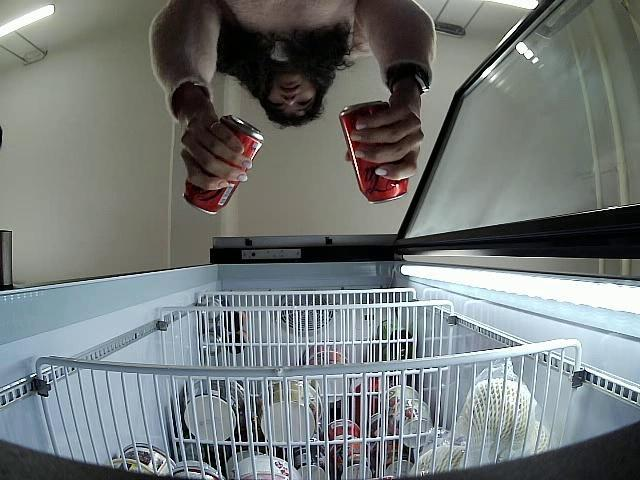11_cocaColaZero: (182, 114, 264, 216), (339, 102, 410, 205)
